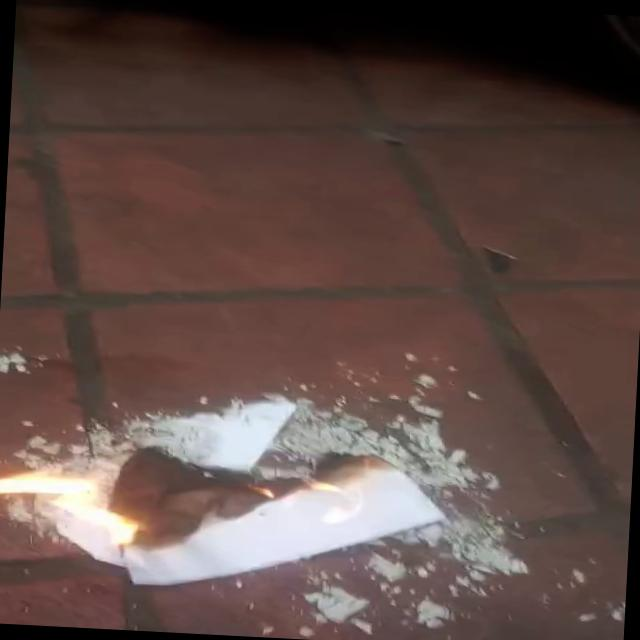Fire_Dangerous: (0, 424, 240, 552), (290, 442, 386, 526)
